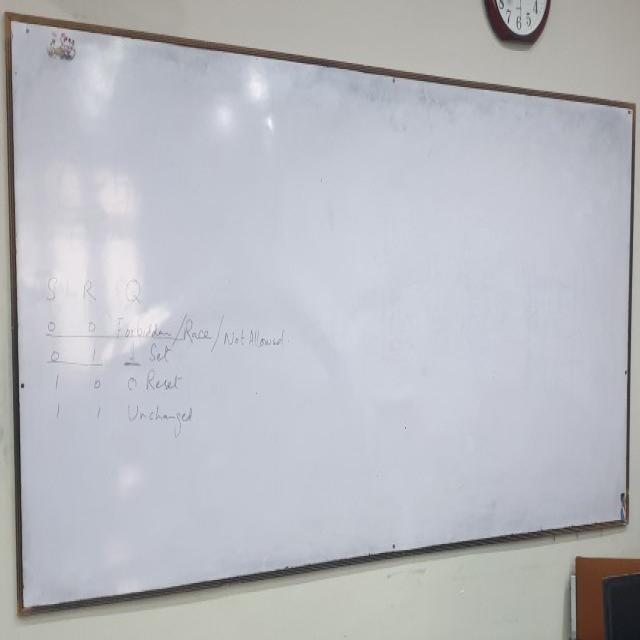White-board: (10, 17, 634, 615)
